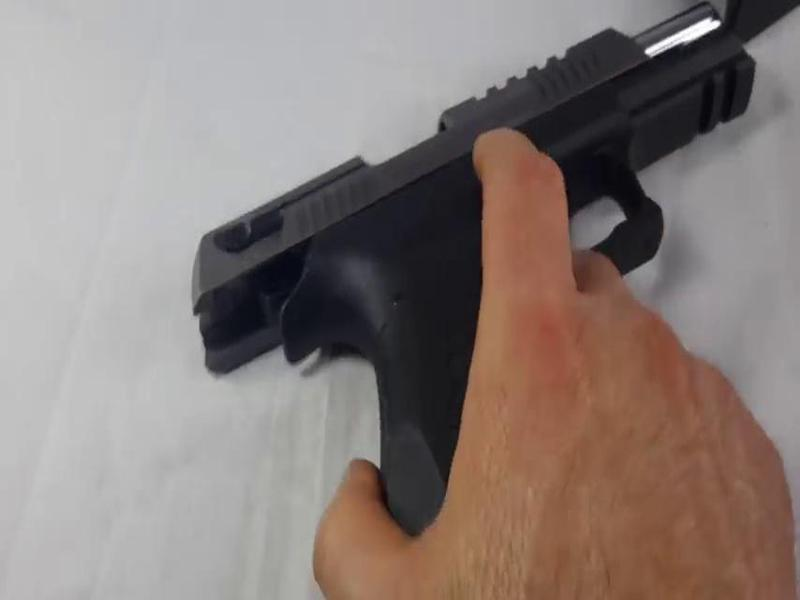Pistola: (216, 1, 790, 528)
